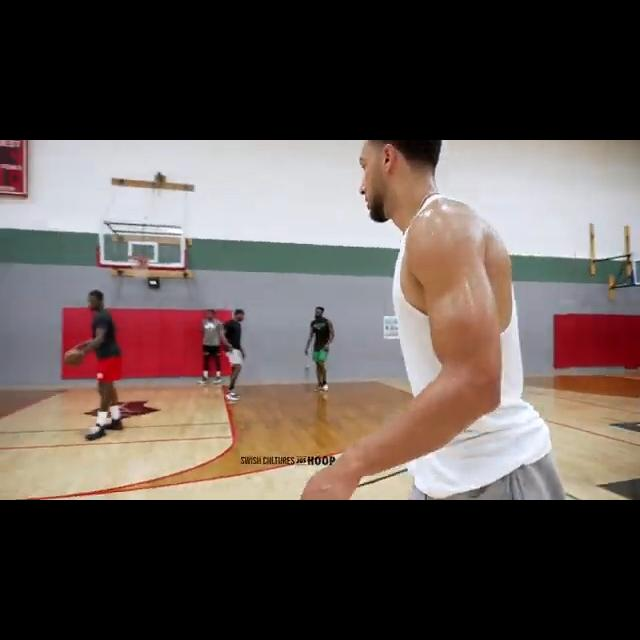basketball: (65, 348, 83, 367)
hoop: (127, 254, 153, 284)
person: (298, 141, 568, 500), (69, 285, 136, 442), (302, 293, 342, 394), (223, 298, 248, 404), (198, 309, 225, 388)
